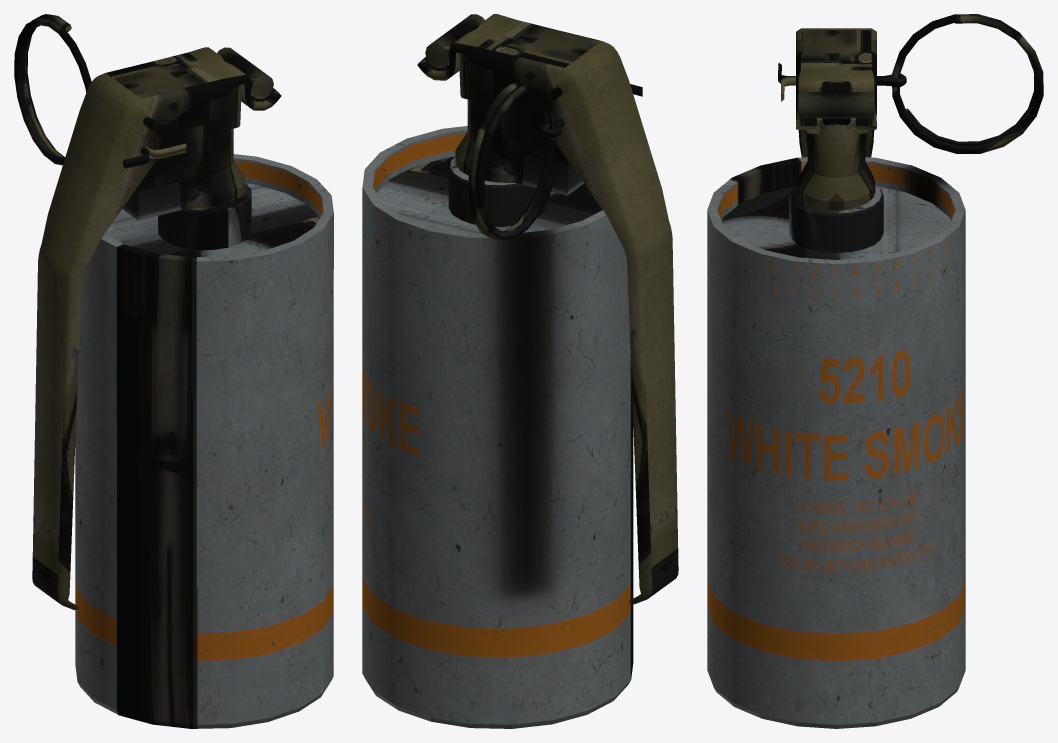
The model's file is w_eq_smokegrenade_dropped.fbx.
3 renders of one model, left to right at view 1: azimuth 30°, elevation 25°; view 2: azimuth 150°, elevation 25°; view 3: azimuth 270°, elevation 25°, orthographic. The views are drawn at different scales.
Parts seen in each view (by area): view 1: w_eq_smokegrenade_dropped_w_eq_smokegrenade; view 2: w_eq_smokegrenade_dropped_w_eq_smokegrenade; view 3: w_eq_smokegrenade_dropped_w_eq_smokegrenade.
Part boxes in pixels (left/top/right/bottom): w_eq_smokegrenade_dropped_w_eq_smokegrenade: left=14, top=14, right=333, bottom=728; w_eq_smokegrenade_dropped_w_eq_smokegrenade: left=362, top=14, right=678, bottom=728; w_eq_smokegrenade_dropped_w_eq_smokegrenade: left=707, top=14, right=1043, bottom=728.
Size of the model in its own units: 3.51 by 7.72 by 3.78.
